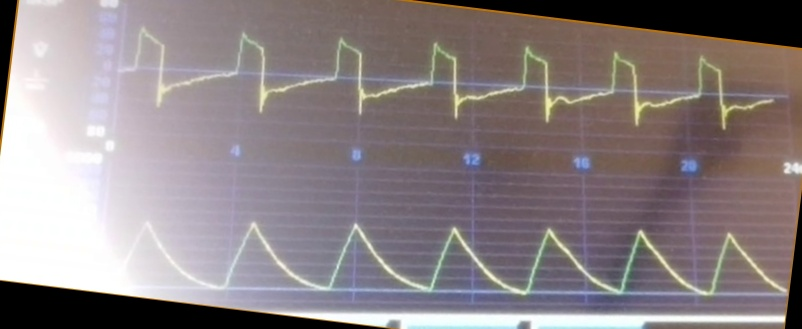Premature_cycling Flow: (124, 25, 772, 129)
Premature_cycling Volume: (126, 217, 785, 298)
